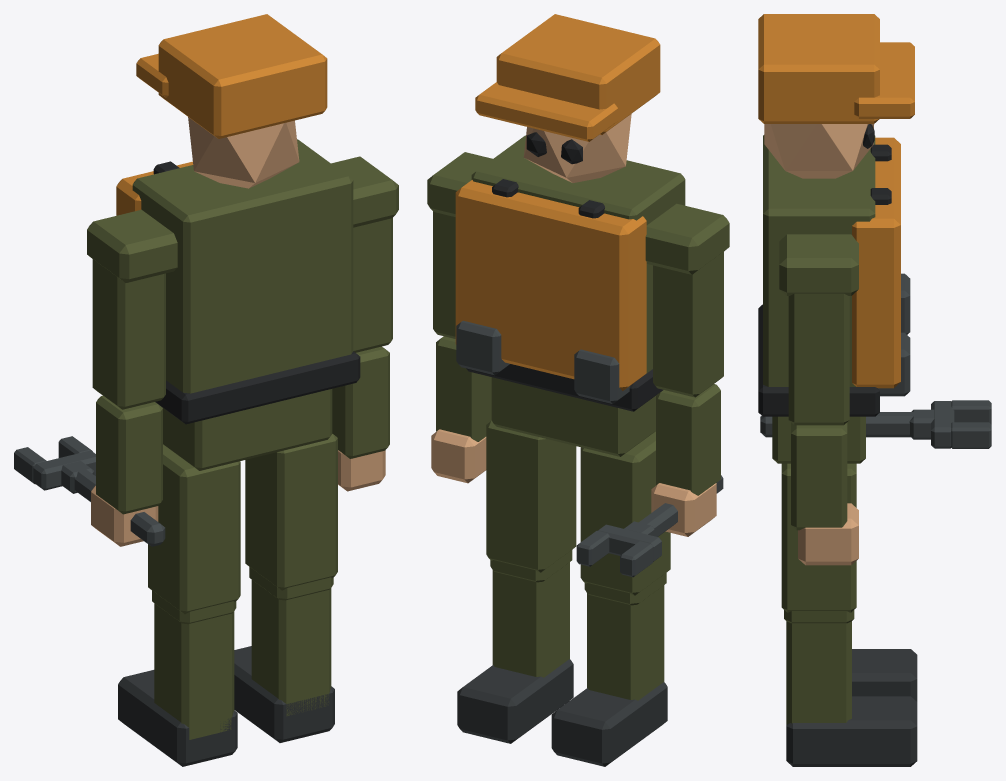
File: soldier_engineer.glb
The picture shows the model from 3 angles, left to right: view 1: azimuth 30°, elevation 25°; view 2: azimuth 150°, elevation 25°; view 3: azimuth 270°, elevation 25°; orthographic projection. The views are drawn at different scales.
Visible parts, largest first — view 1: soldier_engineer; view 2: soldier_engineer; view 3: soldier_engineer.
Part boxes in pixels (x1,y1,x2,y2): soldier_engineer: (14,14,398,766); soldier_engineer: (427,14,729,766); soldier_engineer: (758,14,991,766).
Bounding box in the file's own units: 0.35 × 0.8163 × 0.2494.
1 material, 1 textured.
